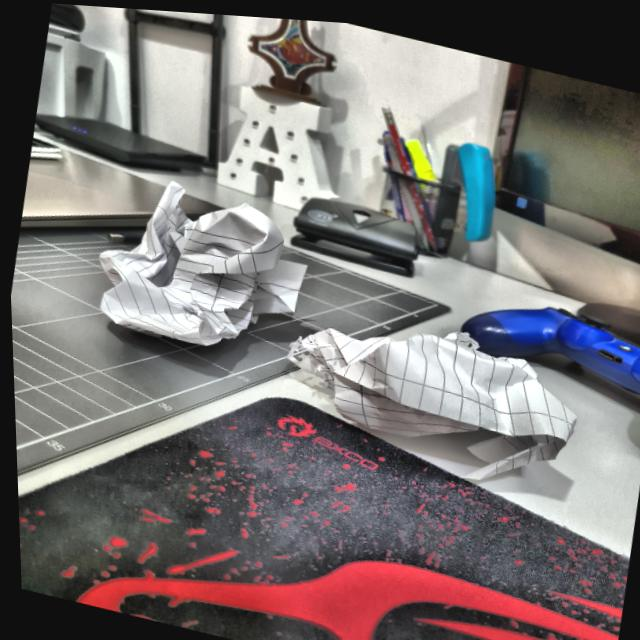Paper: (272, 299, 573, 473), (83, 163, 298, 370)
